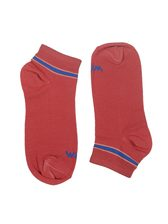sock: (88, 42, 155, 181), (16, 42, 80, 187)
